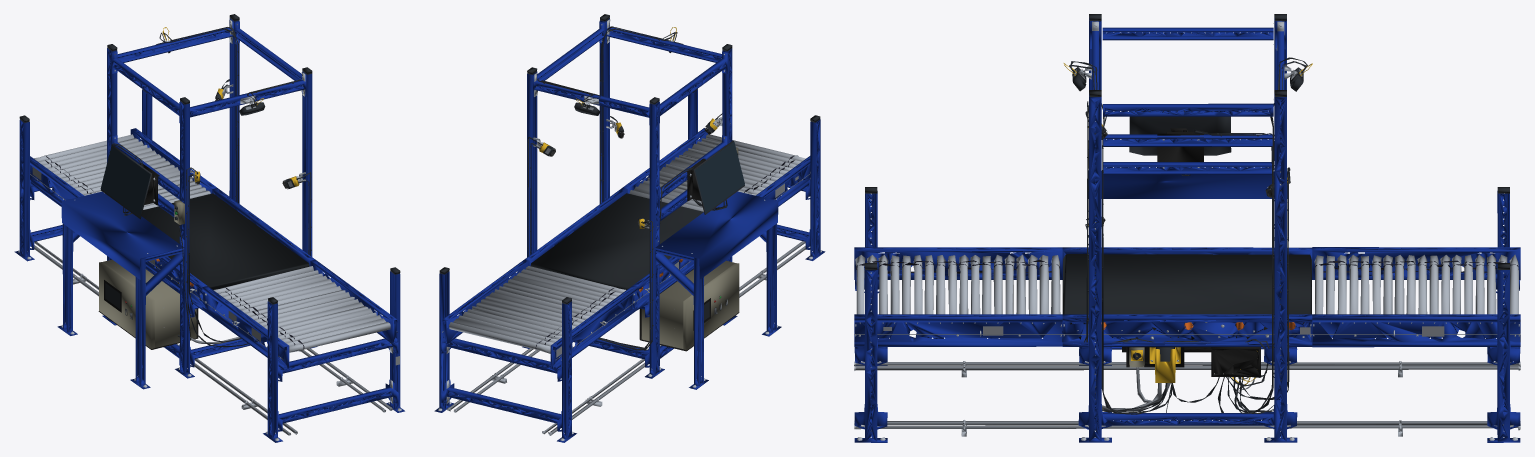
3 renders of one model, left to right at view 1: azimuth 30°, elevation 25°; view 2: azimuth 150°, elevation 25°; view 3: azimuth 270°, elevation 25°, orthographic. The views are drawn at different scales.
Visible parts, largest first — view 1: part_b492f677aa7a5b7c, part_68c676bea03e510d, part_8bd85293a60856cb, part_ebe1ee5938485de8, part_663b9dd1726e5612, part_ac2e4961338953db, part_490b65f9ca9c5cdd, part_0257a687e6f5582a, part_4faab7bf7b495580, part_8ab84fa53eec5cd2, part_0ca6b17b1ba15953, part_b356586359f8511b (+11 smaller); view 2: part_b492f677aa7a5b7c, part_d97cbe16906c5a23, part_3d5c39e101a65828, part_2c545c691f6b517b, part_84e16ded23205dea, part_893e6863ebe15100, part_a98f26b69e9051c7, part_2142427796c45352, part_1f53666c628d543c, part_a8dfc2596ad951fd, part_d2d8882fff3f5371, part_68c676bea03e510d (+9 smaller); view 3: part_b492f677aa7a5b7c.
Boxes of the visible parts, x1=… form: part_b492f677aa7a5b7c: x1=14, y1=14, x2=404, y2=442; part_68c676bea03e510d: x1=289, y1=322, x2=390, y2=352; part_8bd85293a60856cb: x1=213, y1=266, x2=313, y2=293; part_ebe1ee5938485de8: x1=278, y1=308, x2=372, y2=335; part_663b9dd1726e5612: x1=286, y1=318, x2=385, y2=346; part_ac2e4961338953db: x1=227, y1=275, x2=327, y2=303; part_490b65f9ca9c5cdd: x1=236, y1=282, x2=336, y2=309; part_0257a687e6f5582a: x1=249, y1=292, x2=350, y2=319; part_4faab7bf7b495580: x1=218, y1=270, x2=318, y2=296; part_8ab84fa53eec5cd2: x1=232, y1=279, x2=332, y2=306; part_0ca6b17b1ba15953: x1=281, y1=315, x2=381, y2=342; part_b356586359f8511b: x1=278, y1=312, x2=376, y2=339; part_b492f677aa7a5b7c: x1=434, y1=14, x2=825, y2=442; part_d97cbe16906c5a23: x1=449, y1=322, x2=550, y2=353; part_3d5c39e101a65828: x1=462, y1=311, x2=561, y2=339; part_2c545c691f6b517b: x1=453, y1=318, x2=553, y2=346; part_84e16ded23205dea: x1=512, y1=276, x2=612, y2=302; part_893e6863ebe15100: x1=525, y1=266, x2=625, y2=292; part_a98f26b69e9051c7: x1=516, y1=272, x2=617, y2=299; part_2142427796c45352: x1=508, y1=279, x2=608, y2=306; part_1f53666c628d543c: x1=521, y1=269, x2=621, y2=296; part_a8dfc2596ad951fd: x1=476, y1=302, x2=576, y2=329; part_d2d8882fff3f5371: x1=467, y1=309, x2=561, y2=335; part_68c676bea03e510d: x1=706, y1=134, x2=805, y2=161; part_b492f677aa7a5b7c: x1=854, y1=14, x2=1520, y2=442.
Bounding box in the file's own units: 1.54 × 2.31 × 4.
